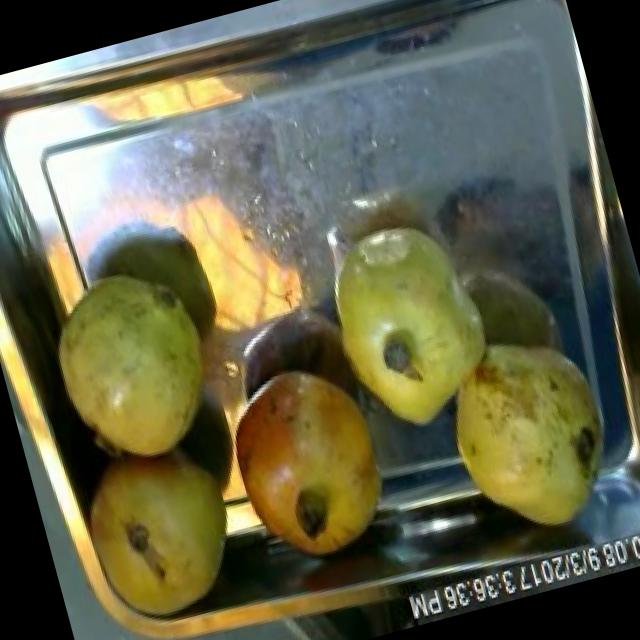fruit: (302, 192, 522, 452), (202, 338, 412, 581), (426, 312, 634, 557), (31, 244, 237, 484), (57, 421, 258, 640)
